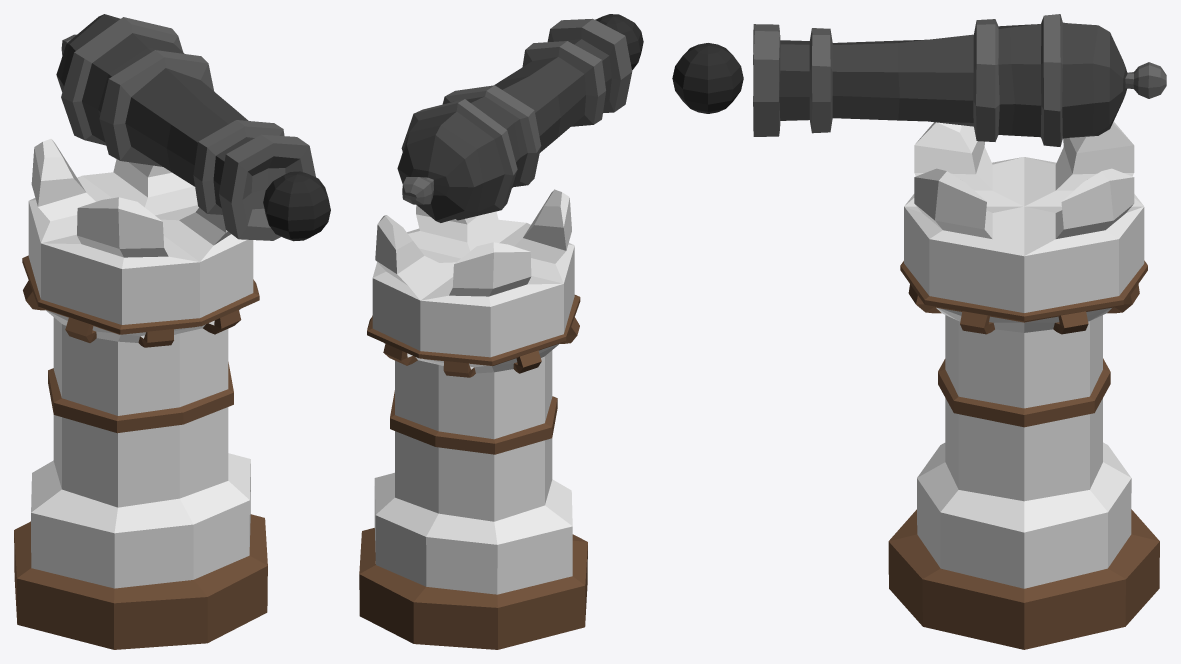
Rendered from Cannon Tower.fbx.
3 renders of one model, left to right at view 1: azimuth 30°, elevation 25°; view 2: azimuth 150°, elevation 25°; view 3: azimuth 270°, elevation 25°, orthographic. The views are drawn at different scales.
Parts seen in each view (by area): view 1: Tower, Cannon, Cannon Ball; view 2: Tower, Cannon, Cannon Ball; view 3: Tower, Cannon, Cannon Ball.
Boxes of the visible parts, left/top/right/bottom form: Tower: left=14, top=139, right=267, bottom=649; Cannon: left=56, top=14, right=315, bottom=240; Cannon Ball: left=263, top=171, right=330, bottom=241; Tower: left=359, top=189, right=587, bottom=649; Cannon: left=397, top=18, right=632, bottom=222; Cannon Ball: left=595, top=14, right=643, bottom=70; Tower: left=888, top=121, right=1159, bottom=649; Cannon: left=753, top=14, right=1166, bottom=146; Cannon Ball: left=672, top=43, right=743, bottom=113.
Size of the model in its own units: 314 by 683 by 533.
